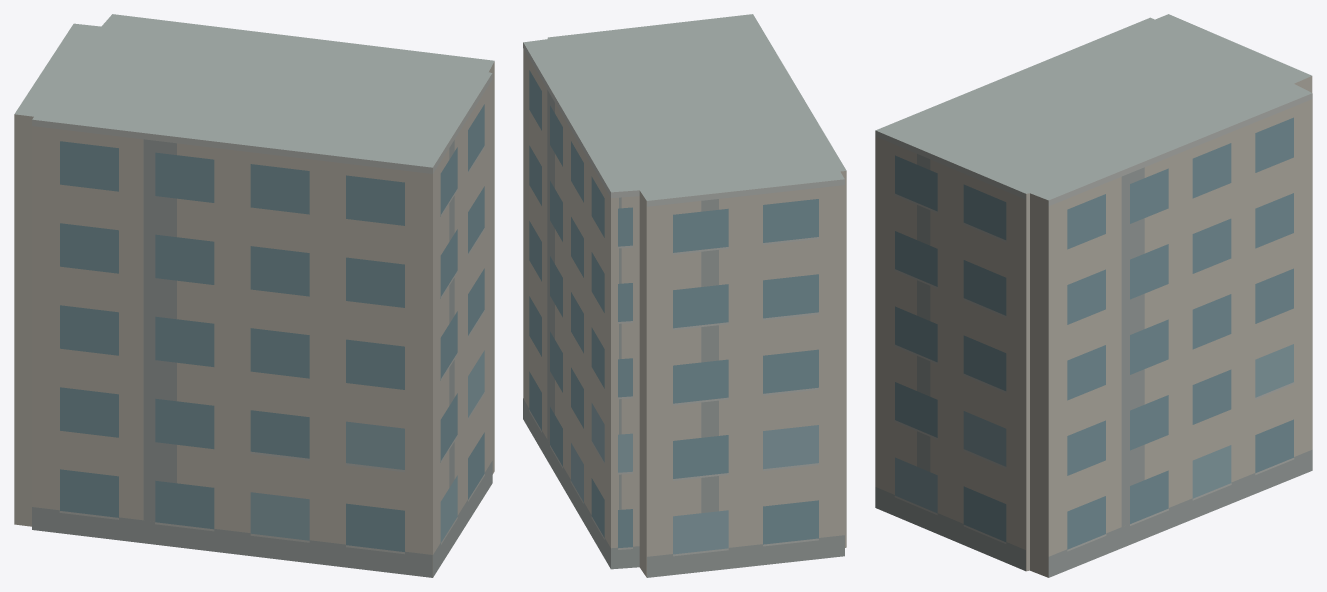
File: survey-upis-32850233.glb
3 views of the same model, side by side, from view 1: azimuth 30°, elevation 25°; view 2: azimuth 150°, elevation 25°; view 3: azimuth 270°, elevation 25° (orthographic). The views are drawn at different scales.
Visible parts, largest first — view 1: survey-upis-32850233.tmp; view 2: survey-upis-32850233.tmp; view 3: survey-upis-32850233.tmp.
Boxes of the visible parts, x1,y1,x2,y2 form: survey-upis-32850233.tmp: (14, 14, 494, 577); survey-upis-32850233.tmp: (523, 14, 846, 577); survey-upis-32850233.tmp: (875, 14, 1312, 577).
Size of the model in its own units: 16.75 by 15.8 by 16.59.
